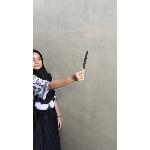Pisau: (76, 48, 92, 77)
